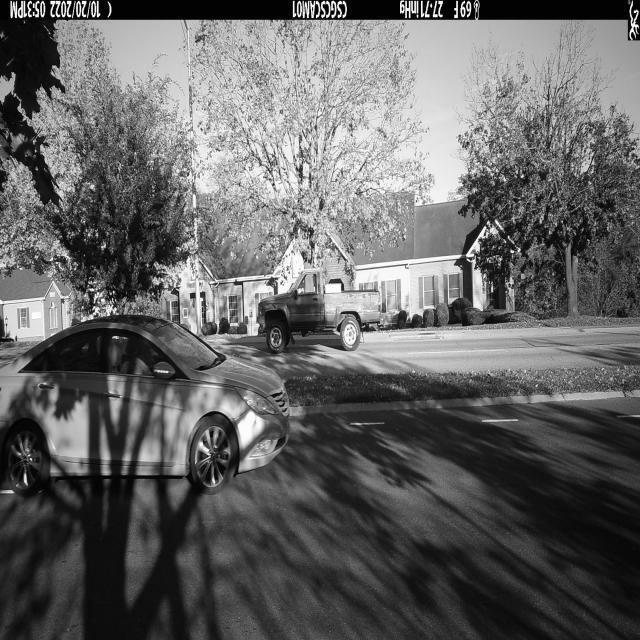Pickup: (256, 266, 385, 352)
Sedan: (0, 315, 289, 497)
